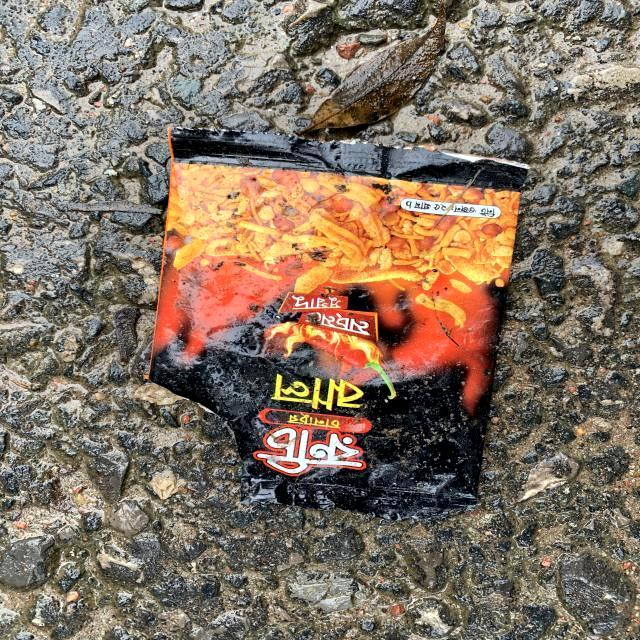packet: (141, 136, 507, 509)
